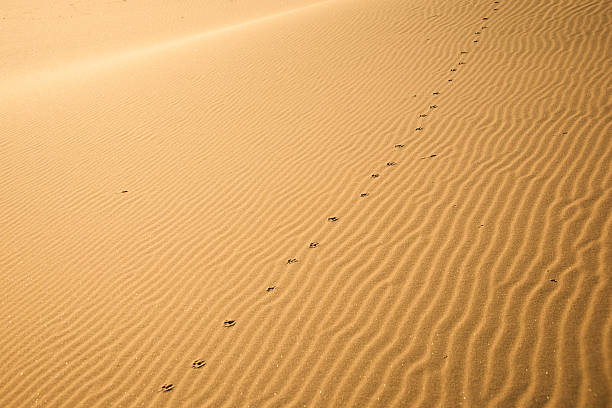animal_footprint: (160, 383, 173, 391), (192, 360, 205, 368), (223, 320, 235, 326), (421, 154, 436, 158), (327, 216, 338, 221), (287, 258, 297, 263), (309, 242, 318, 247), (266, 286, 275, 291), (394, 144, 404, 148), (386, 161, 396, 165), (429, 105, 437, 109), (371, 173, 379, 177), (415, 127, 423, 130), (360, 193, 367, 196), (460, 50, 467, 53), (419, 114, 426, 117), (458, 61, 465, 64), (550, 279, 557, 282), (450, 68, 456, 71), (474, 31, 480, 34), (433, 91, 439, 94), (482, 17, 487, 20), (121, 190, 127, 192), (473, 40, 477, 42), (448, 79, 452, 81)
